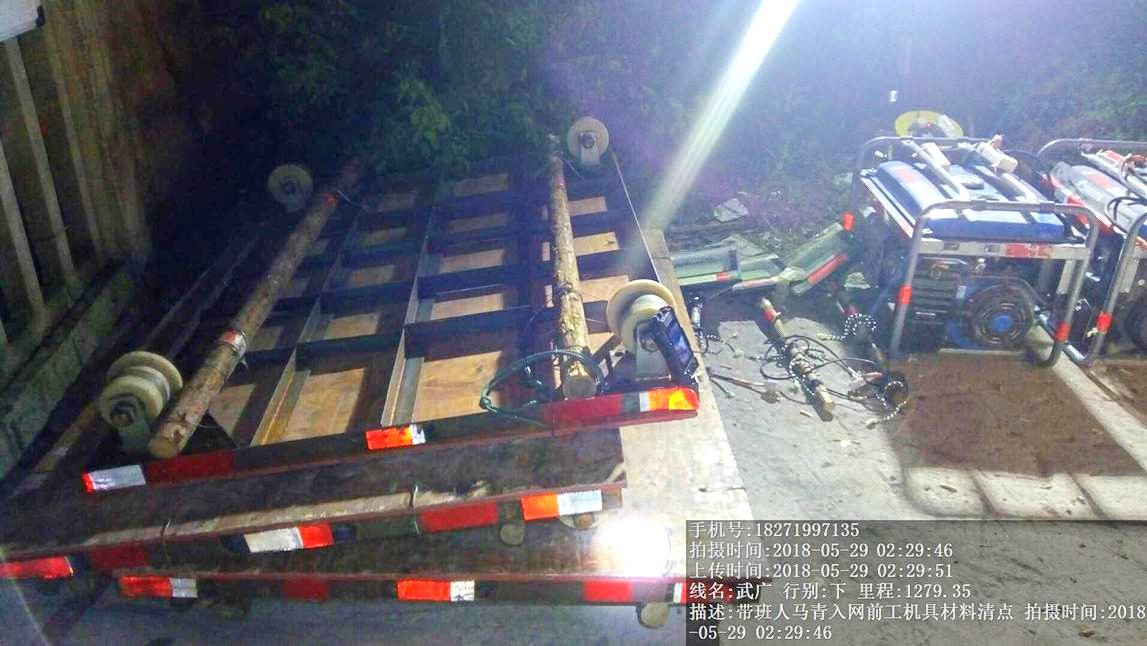DJ: (850, 127, 1057, 372), (1047, 141, 1147, 356)
